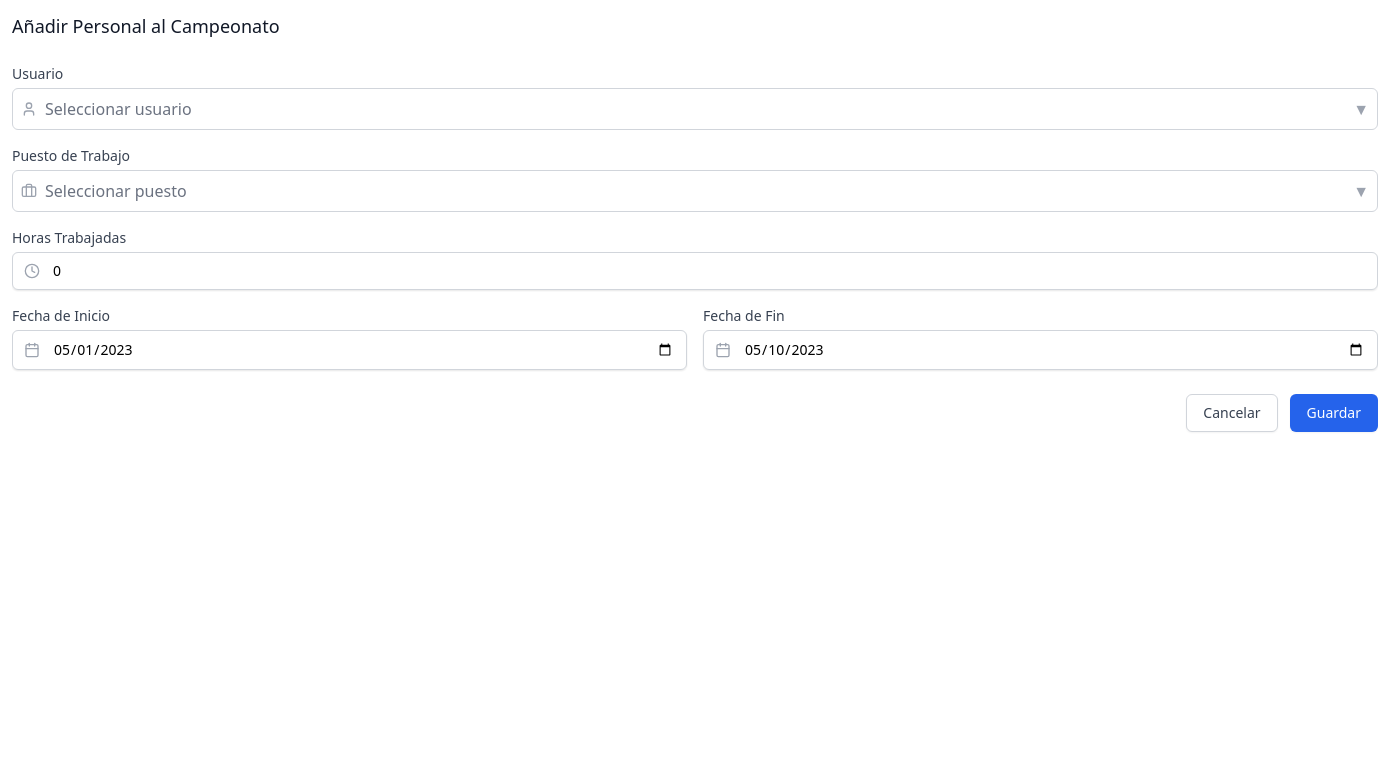
Test: AddAssignmentForm Component › validates that end date is after start date
Click the text "Seleccionar usuario" at (118, 109), box x1=45 y1=98 x2=192 y2=120
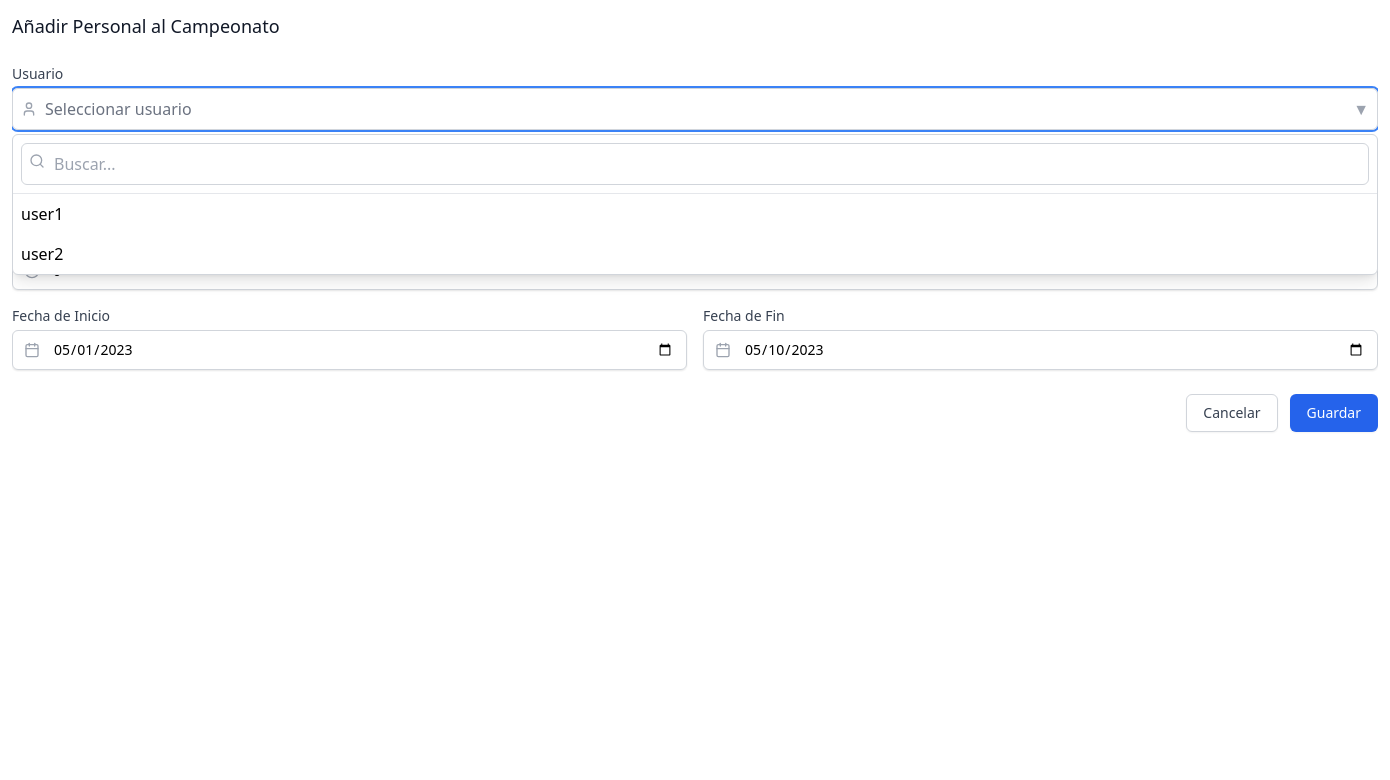
# Esperar a que aparezca la lista de opciones y seleccionar la primera
Click the text "user1" at (42, 214), box x1=21 y1=203 x2=63 y2=225
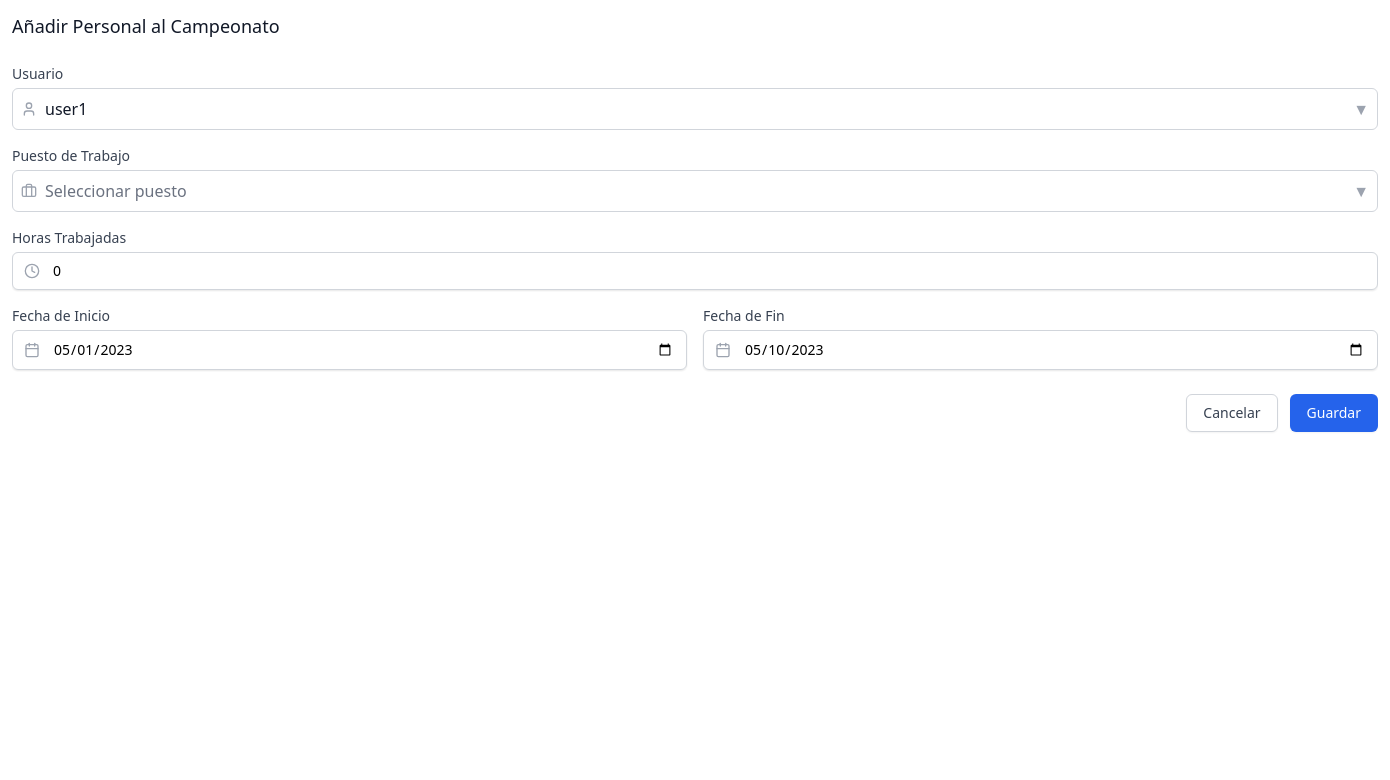
# Seleccionar puesto de trabajo
Click the text "Seleccionar puesto" at (116, 191), box x1=45 y1=180 x2=187 y2=202
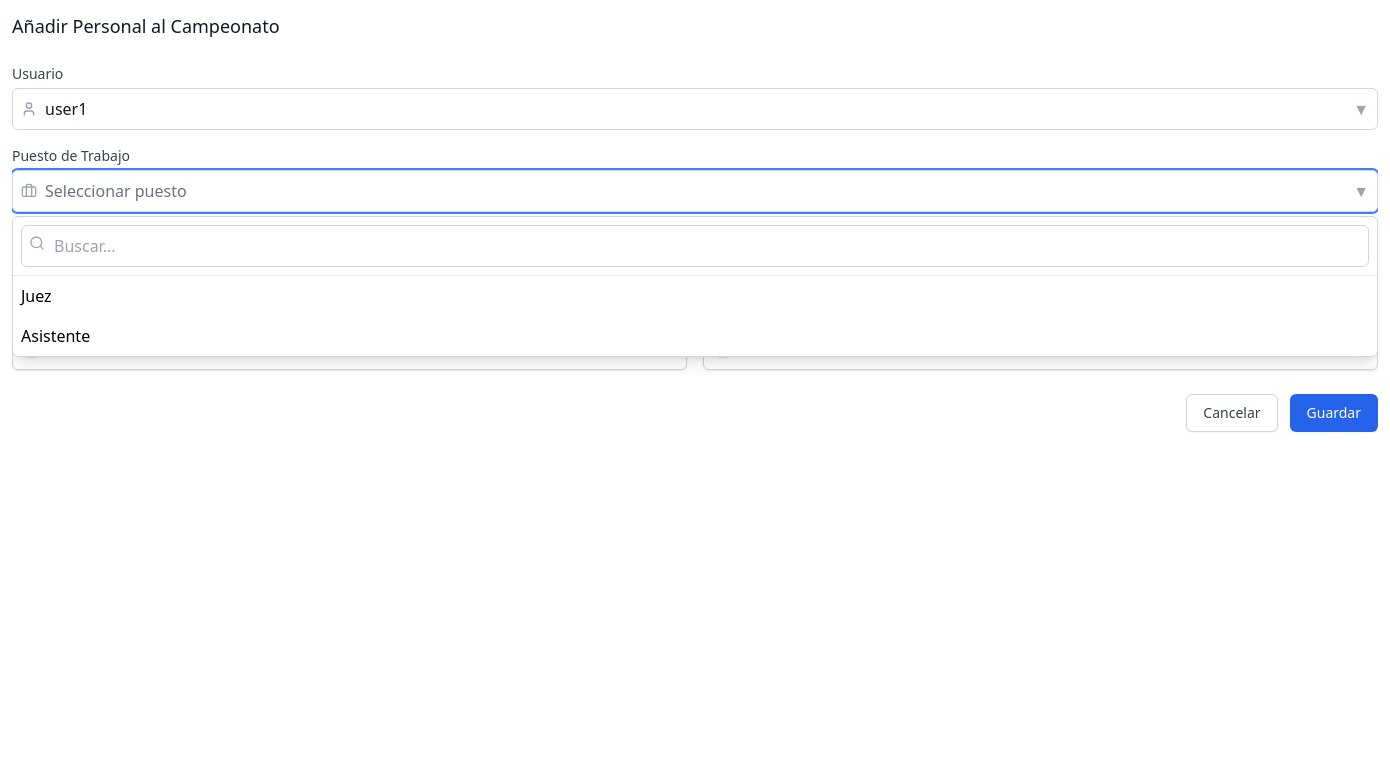
# Esperar a que aparezca la lista de opciones y seleccionar la primera
Click the text "Juez" at (36, 296), box x1=21 y1=285 x2=52 y2=307
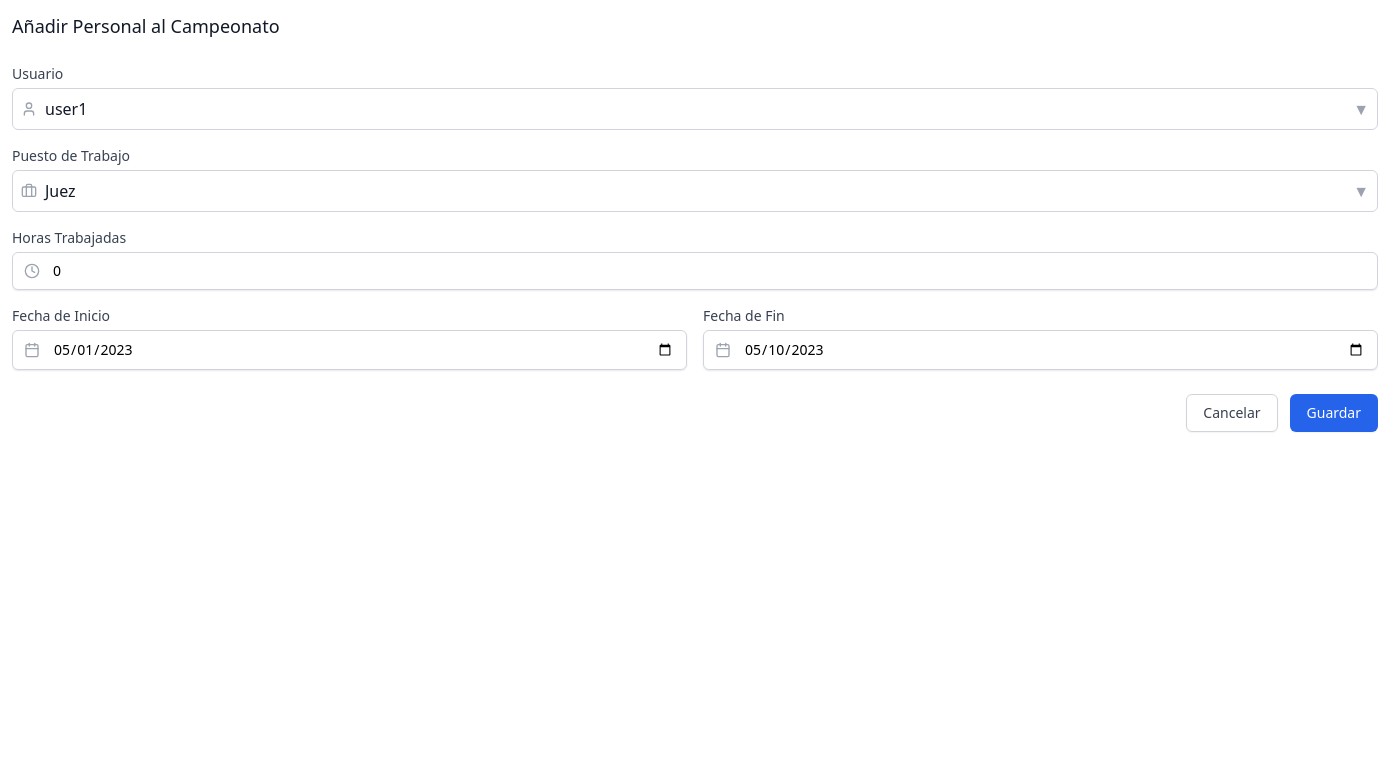
# Ingresar horas trabajadas
Replace the text in the number field with "8" at (695, 271), box x1=12 y1=252 x2=1378 y2=290
# Ingresar fechas inválidas (fin antes que inicio)
Type "2023-05-10" into the date field labelled "Fecha de Inicio" at (350, 350), box x1=12 y1=330 x2=687 y2=370
Type "2023-05-01" into the date field labelled "Fecha de Fin" at (1040, 350), box x1=703 y1=330 x2=1378 y2=370
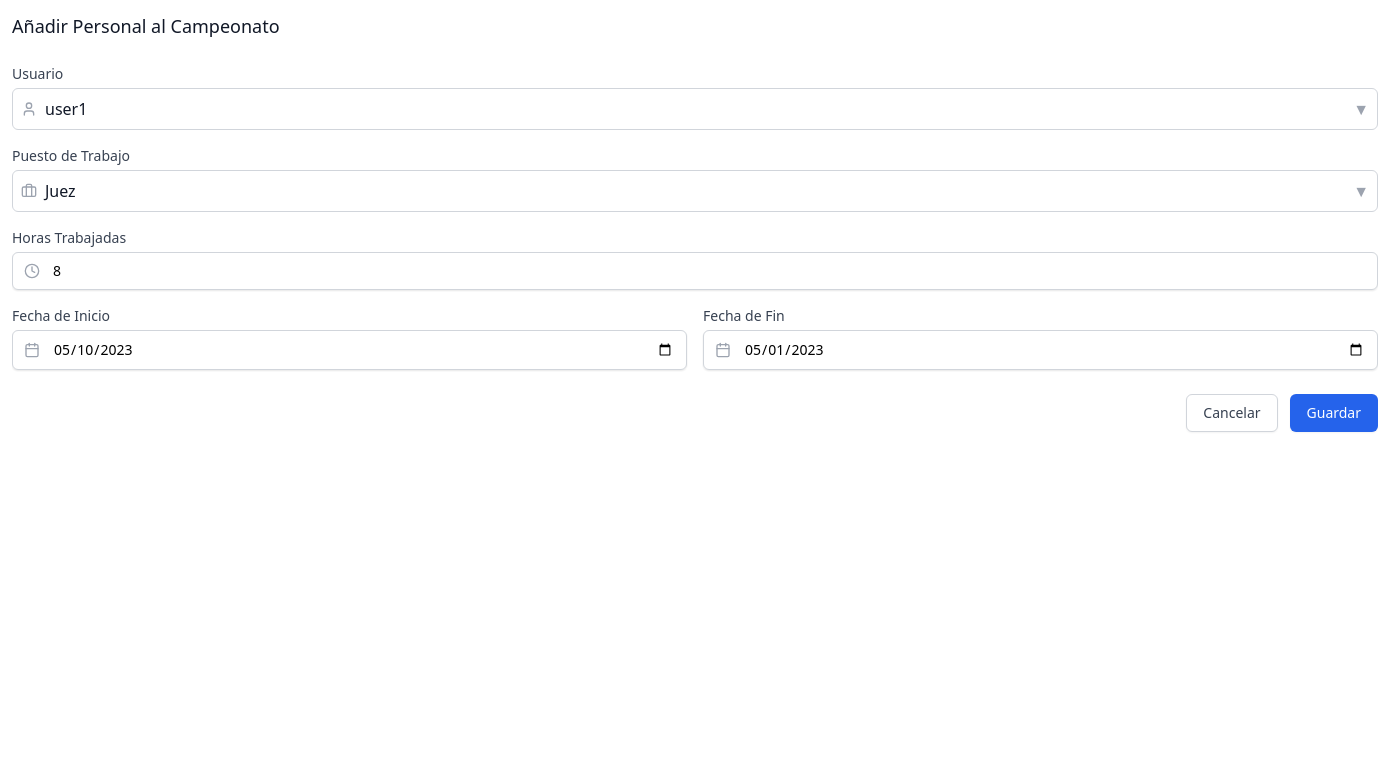
# Hacer clic en el botón de guardar
Click the button "Guardar" at (1334, 413), box x1=1290 y1=394 x2=1378 y2=432
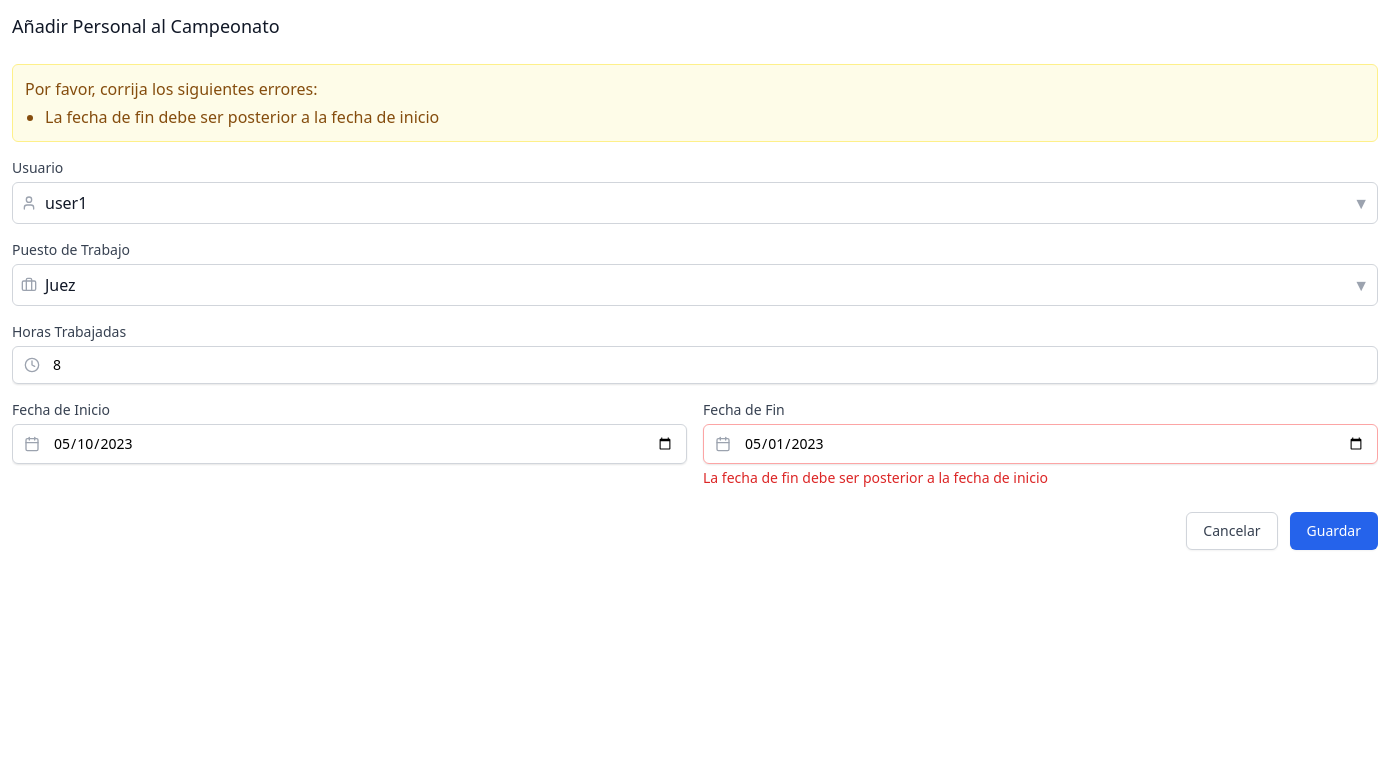
Now the list item "La fecha de fin debe ser posterior a la fecha de inicio" is shown, box x1=45 y1=106 x2=439 y2=128
